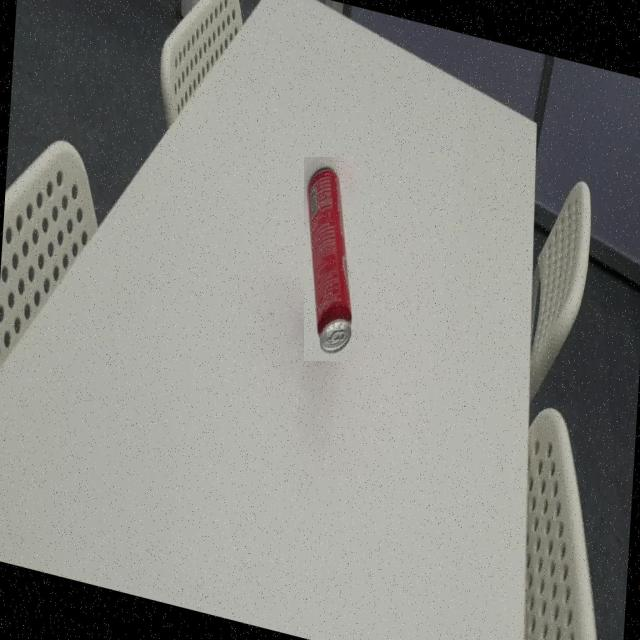coca-cola: (304, 157, 356, 361)
